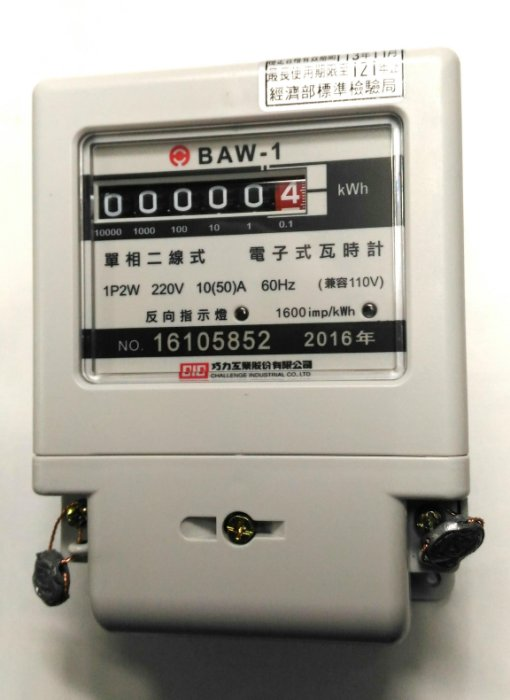counter: (14, 40, 492, 652)
counter_screen: (91, 171, 311, 223)
